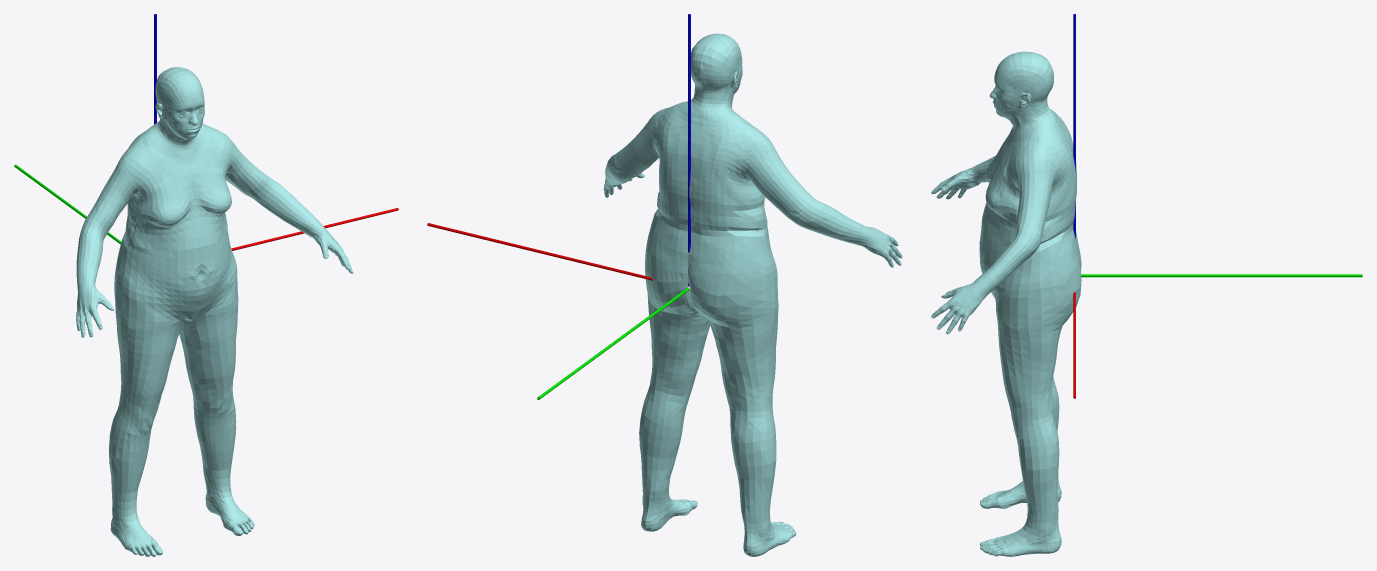
The model's file is tmpz3zzdopx.glb.
3 views of the same model, side by side, from view 1: azimuth 30°, elevation 25°; view 2: azimuth 150°, elevation 25°; view 3: azimuth 270°, elevation 25° (orthographic). The views are drawn at different scales.
Visible parts, largest first — view 1: body, world; view 2: body, world; view 3: body, world.
Boxes of the visible parts, box(x1,y1,x2,y2) form: body: box(76, 67, 353, 556); world: box(14, 14, 398, 250); body: box(603, 33, 902, 556); world: box(427, 14, 690, 399); body: box(931, 51, 1081, 556); world: box(1073, 14, 1362, 398).
Size of the model in its own units: 1.56 by 1.97 by 1.5.
